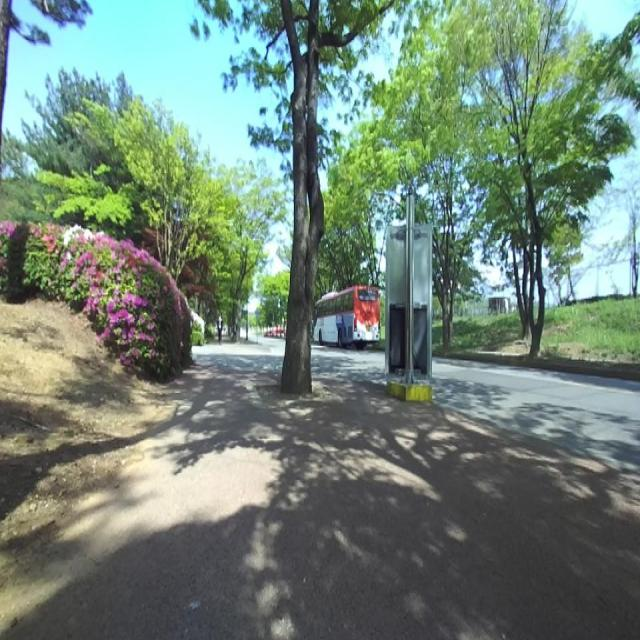sidewalk: (17, 367, 640, 638)
